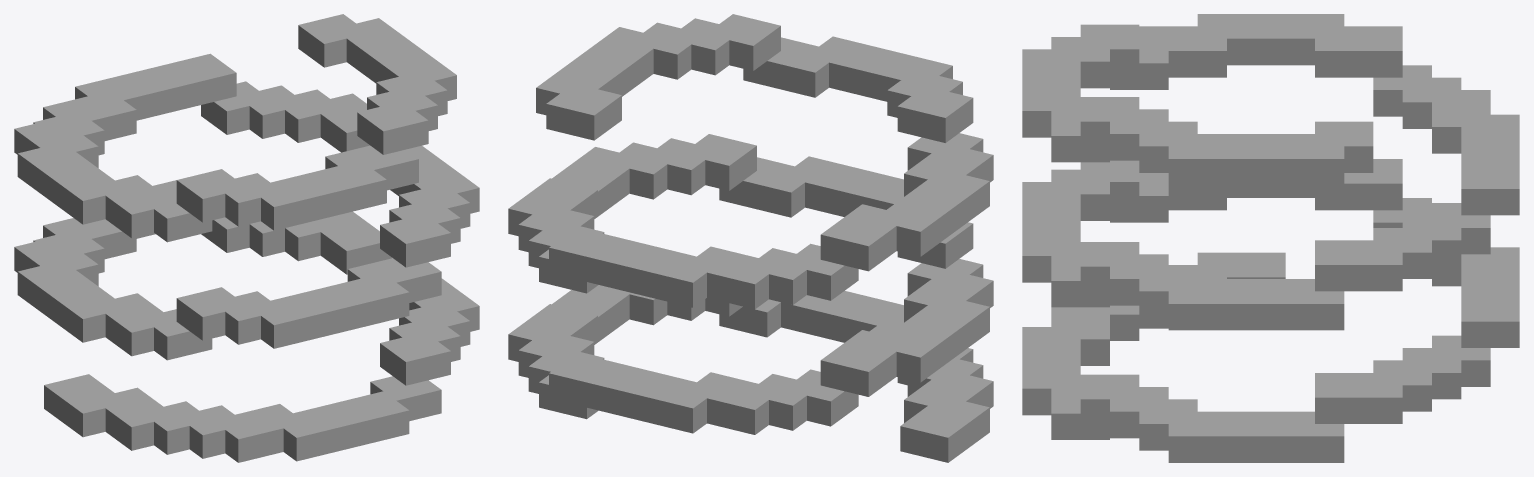
File: jump_spring.obj
3 renders of one model, left to right at view 1: azimuth 30°, elevation 25°; view 2: azimuth 150°, elevation 25°; view 3: azimuth 270°, elevation 25°, orthographic. The views are drawn at different scales.
Bounding box in the file's own units: 17 × 12 × 17.
